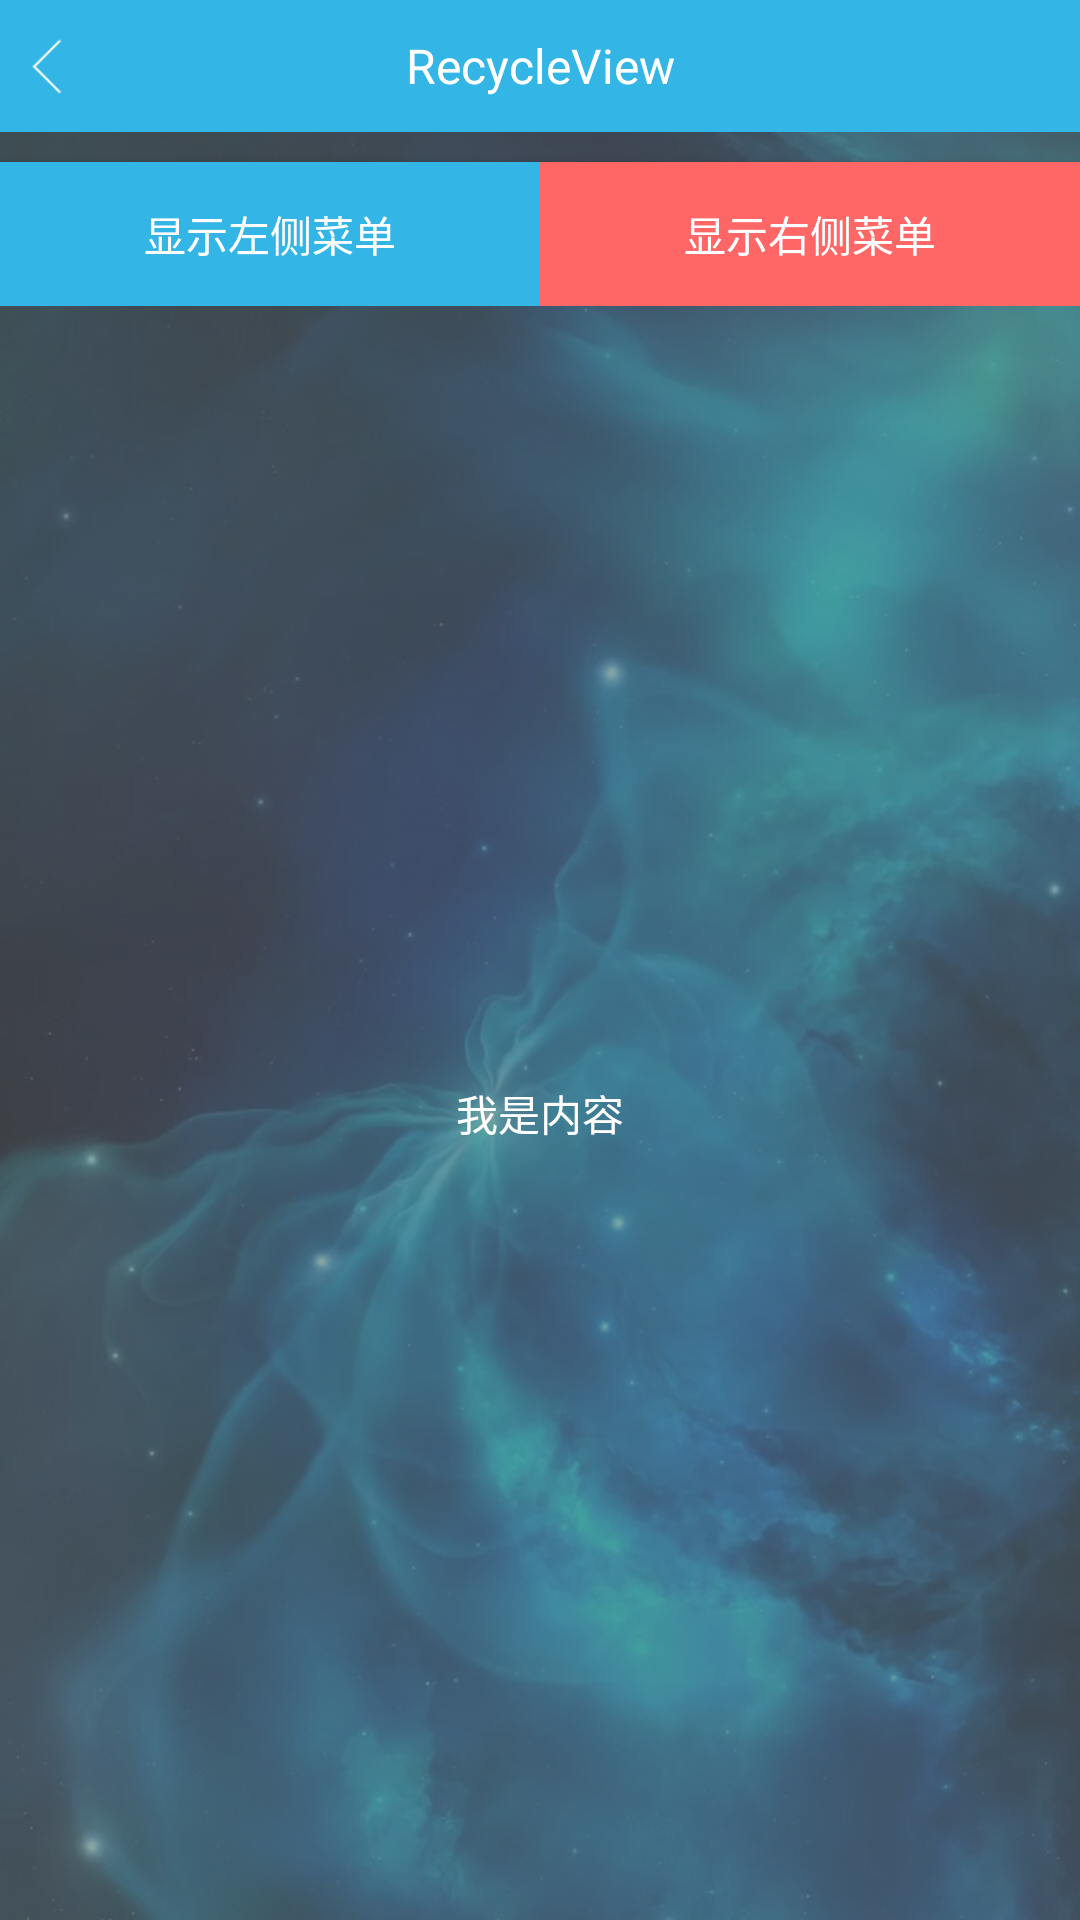

Icons on this 1080px x 1920px Android screen, each with the point to tap as (x=x, y=y):
back: (x=47, y=66)
